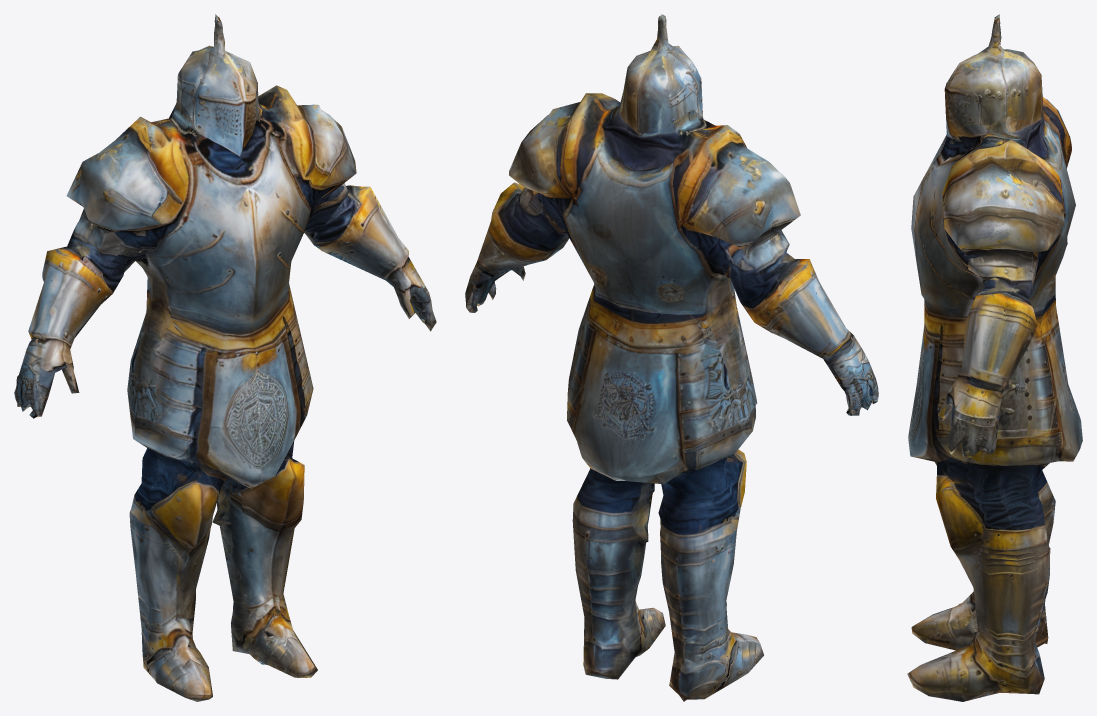
File: peao.glb
The picture shows the model from 3 angles, left to right: view 1: azimuth 30°, elevation 25°; view 2: azimuth 150°, elevation 25°; view 3: azimuth 270°, elevation 25°; orthographic projection.
Size of the model in its own units: 0.7673 by 1.2 by 0.2906.
Materials: 1 (1 with a texture image).
